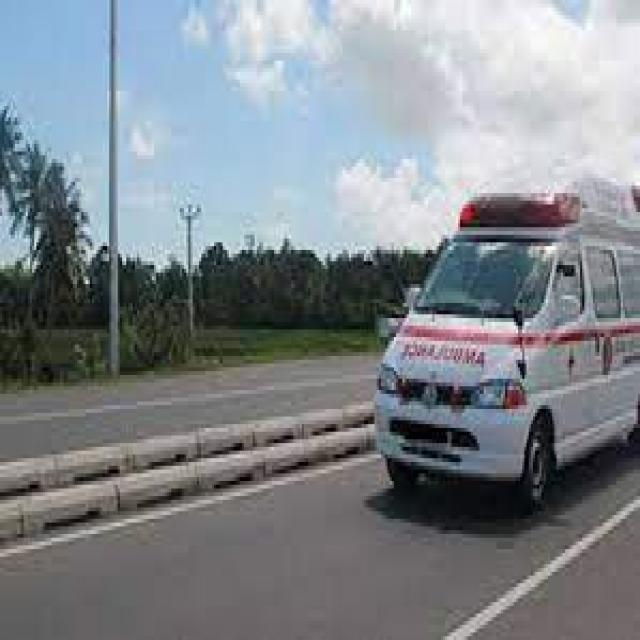emergency-vehicle: (364, 166, 640, 512)
